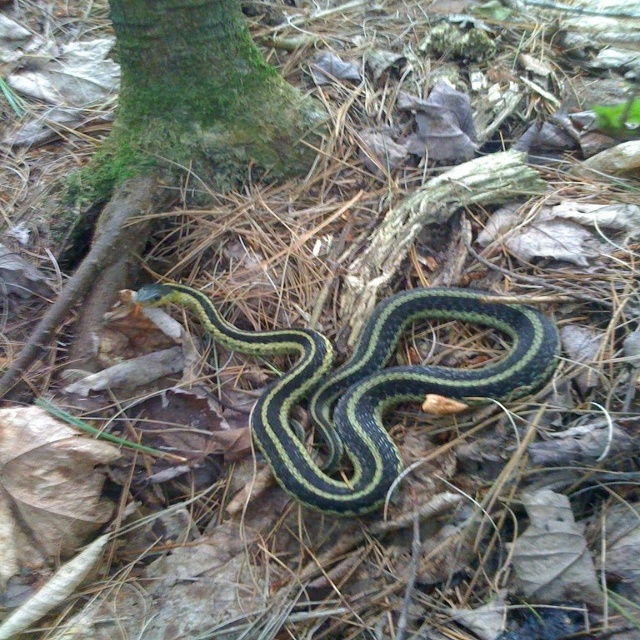Snake: (133, 283, 561, 517)
